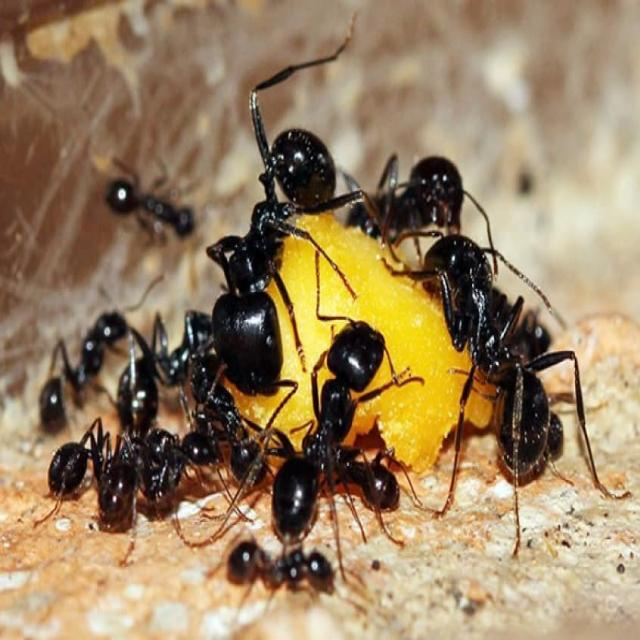ants: (408, 226, 570, 488), (213, 108, 360, 396), (258, 299, 401, 549), (338, 136, 476, 251), (34, 303, 153, 435), (177, 339, 274, 500), (92, 424, 212, 542), (31, 416, 174, 503), (200, 526, 347, 610), (91, 161, 209, 260)
